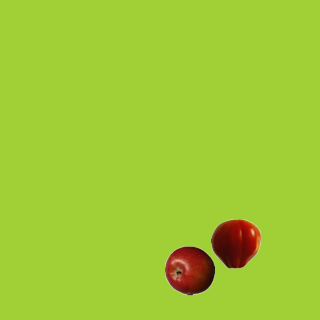Apple Braeburn: (164, 245, 214, 295)
Tomato 1: (210, 218, 260, 268)
